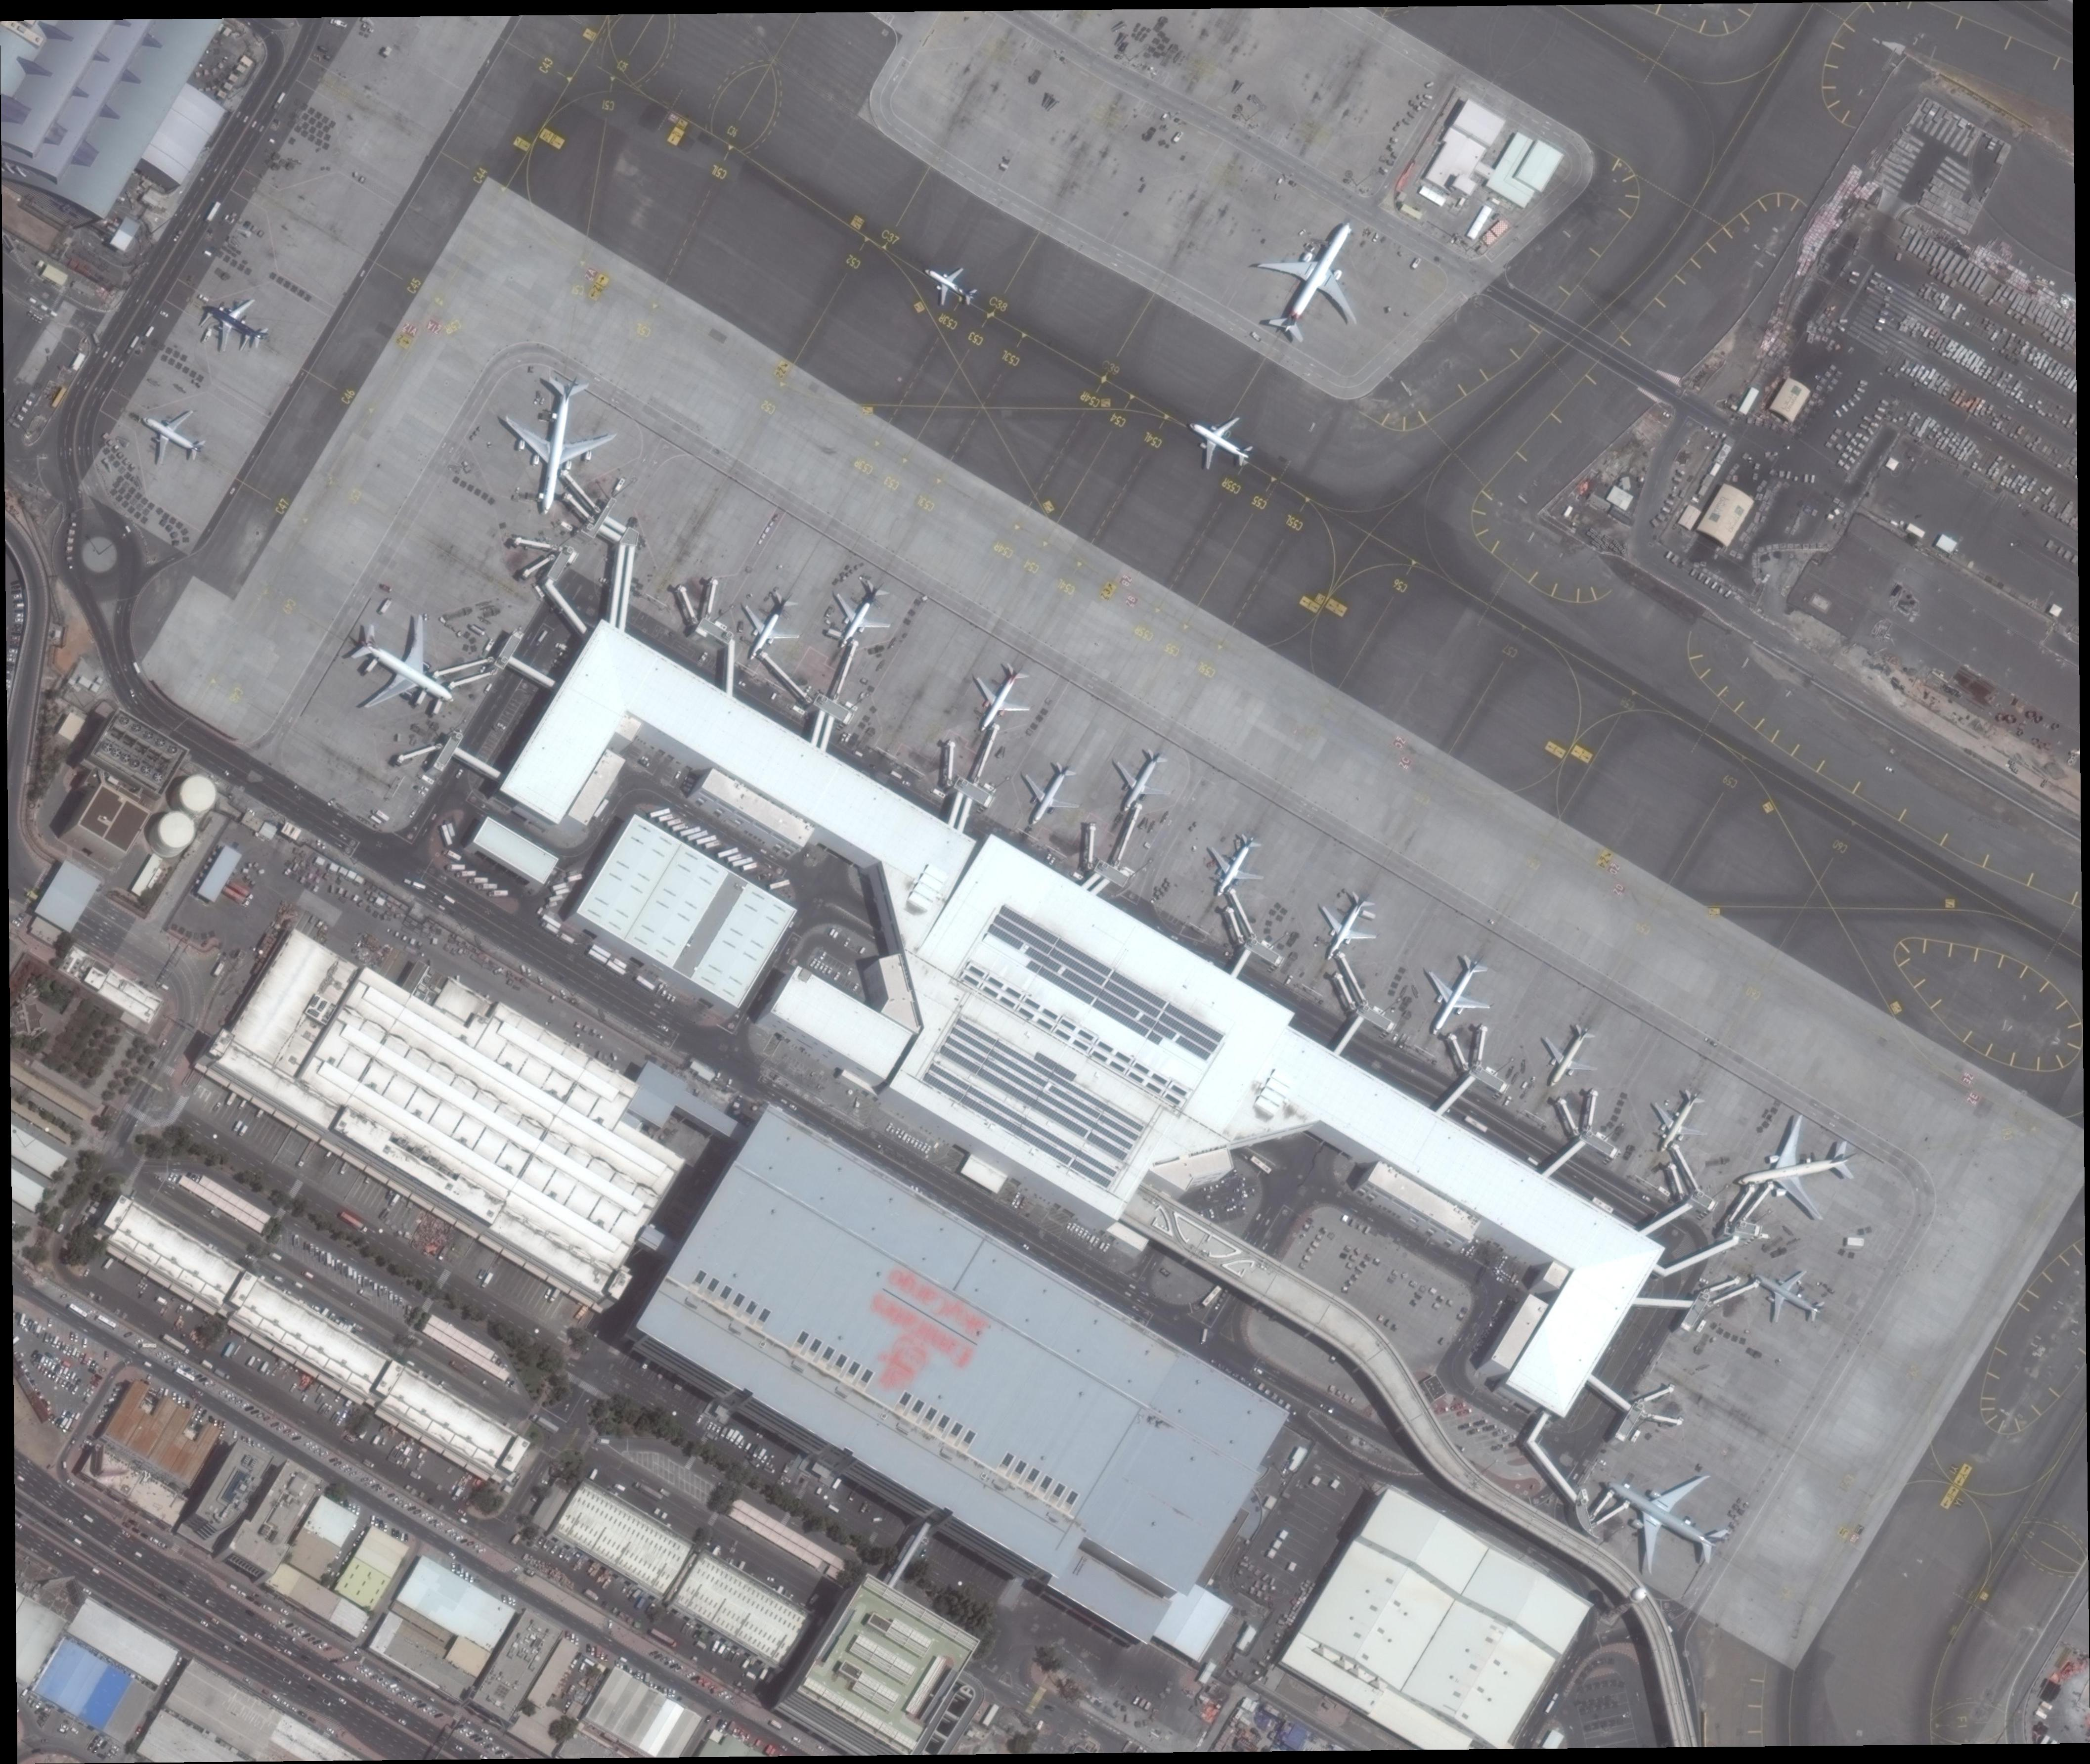plane: (1223, 191, 1403, 367), (1571, 1431, 1754, 1599), (324, 593, 486, 745), (483, 367, 626, 532), (1726, 1106, 1864, 1234), (1403, 941, 1511, 1055), (1733, 1246, 1836, 1342), (1298, 880, 1396, 980), (721, 579, 817, 679), (121, 387, 220, 483), (1002, 749, 1097, 845), (1174, 392, 1268, 488), (1186, 821, 1284, 913), (815, 569, 908, 667), (1095, 737, 1189, 829), (1523, 1011, 1616, 1106), (953, 654, 1046, 747), (187, 278, 282, 369), (1635, 1078, 1723, 1171), (913, 250, 986, 320)
